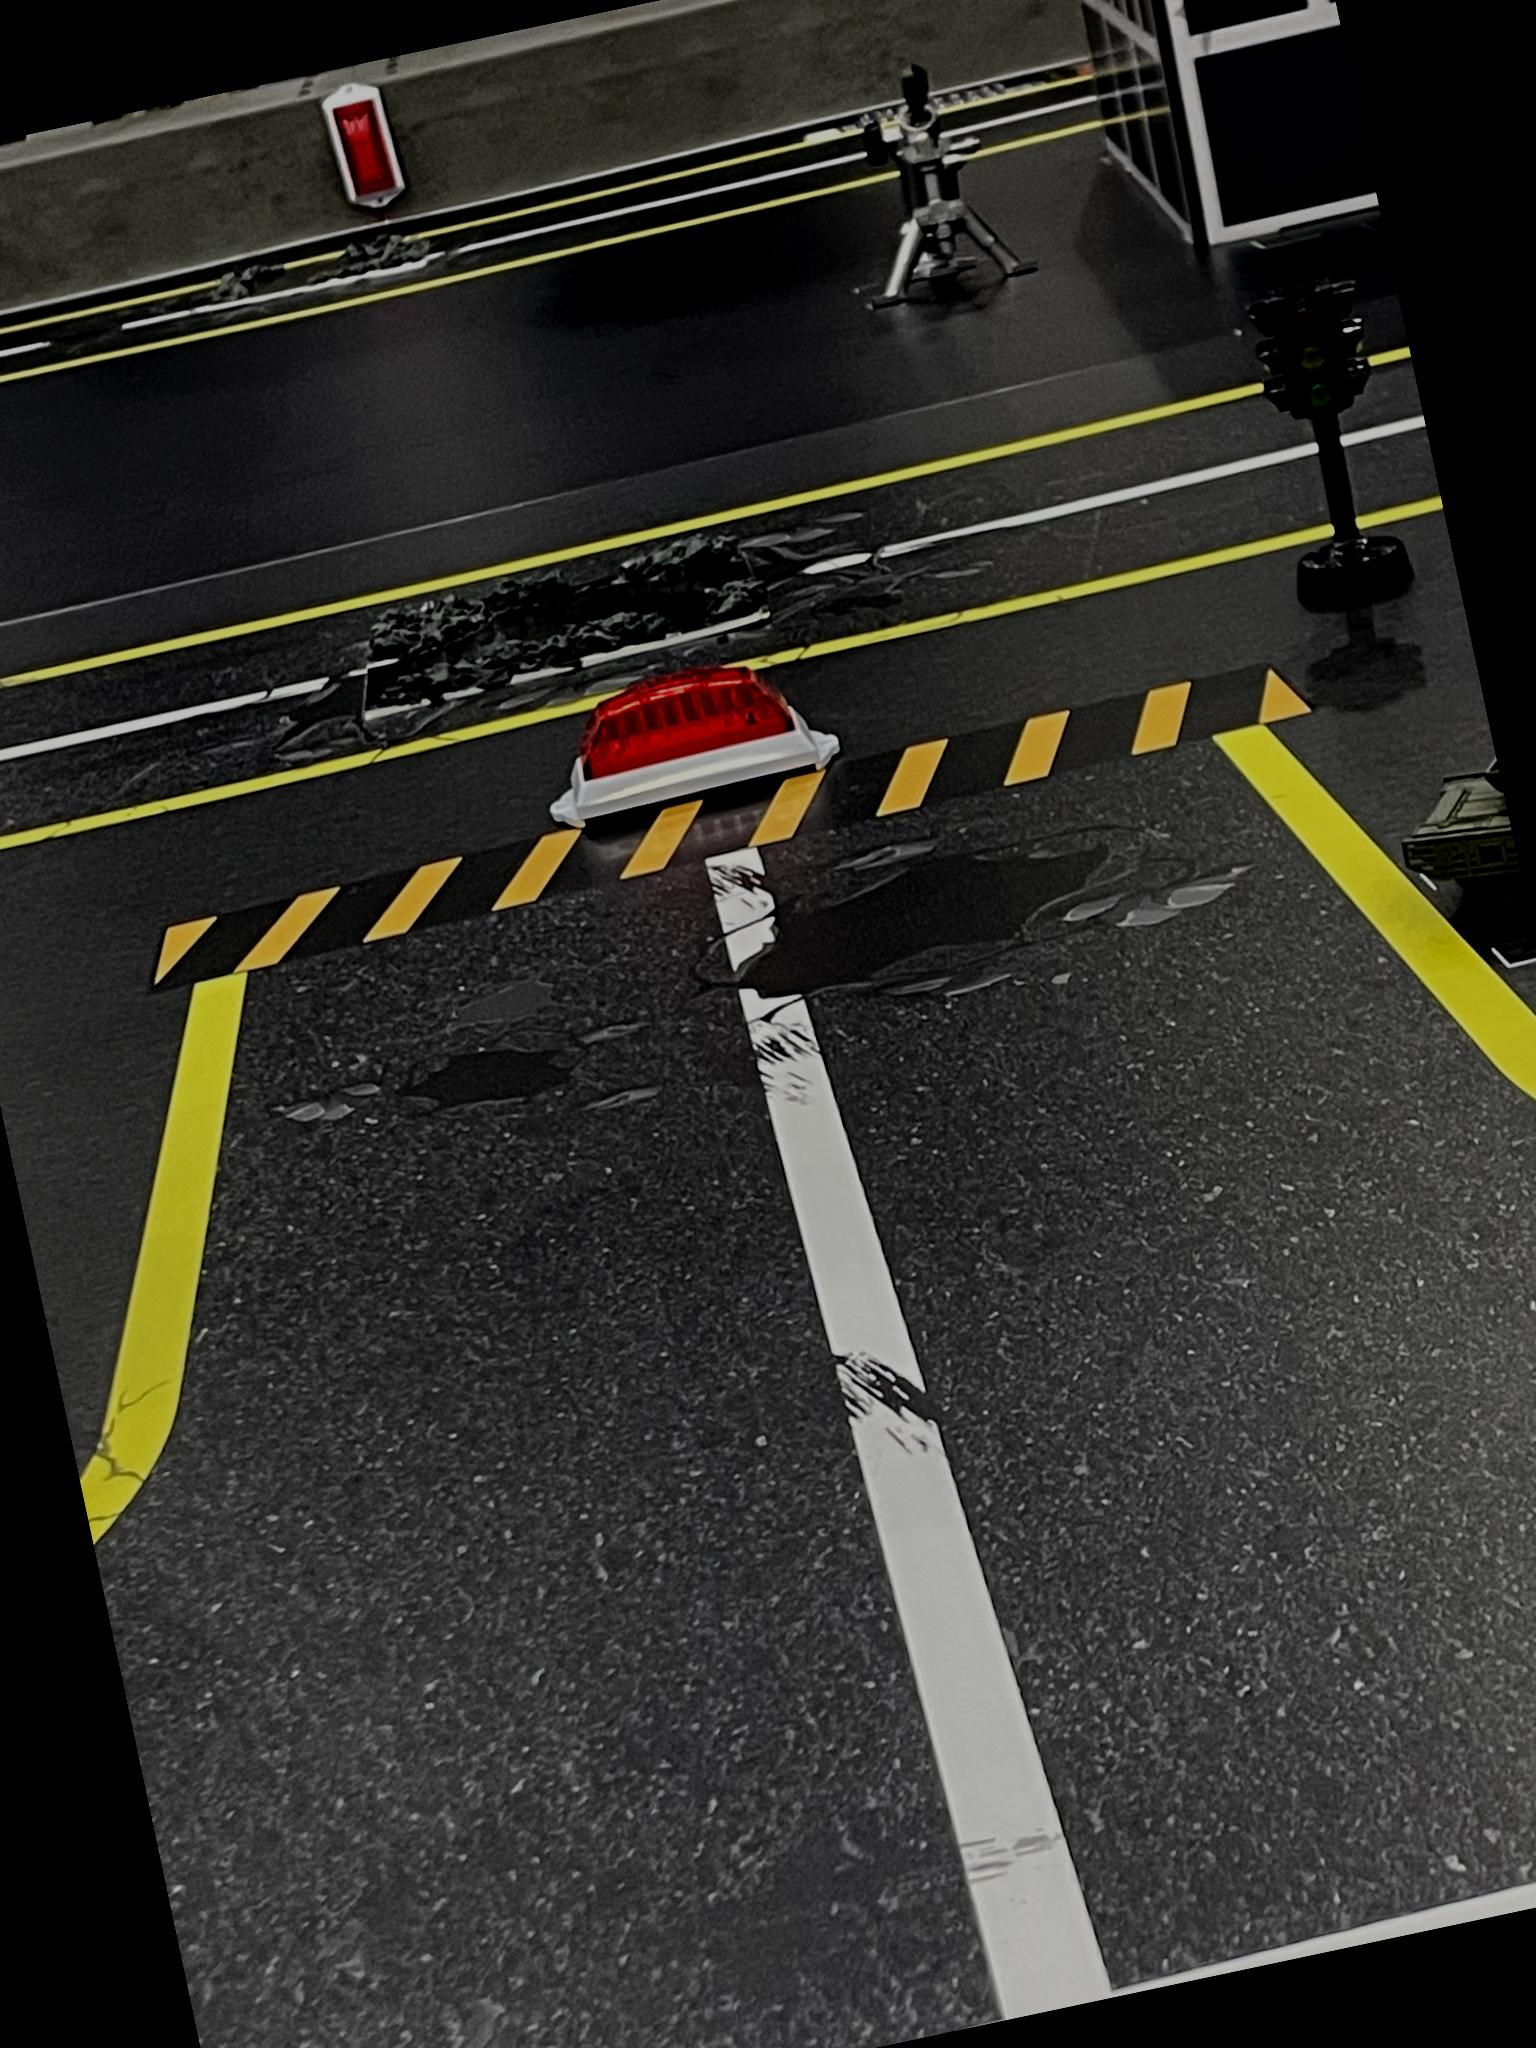Mortar: (818, 45, 1052, 337)
Tank: (1391, 745, 1530, 934)
